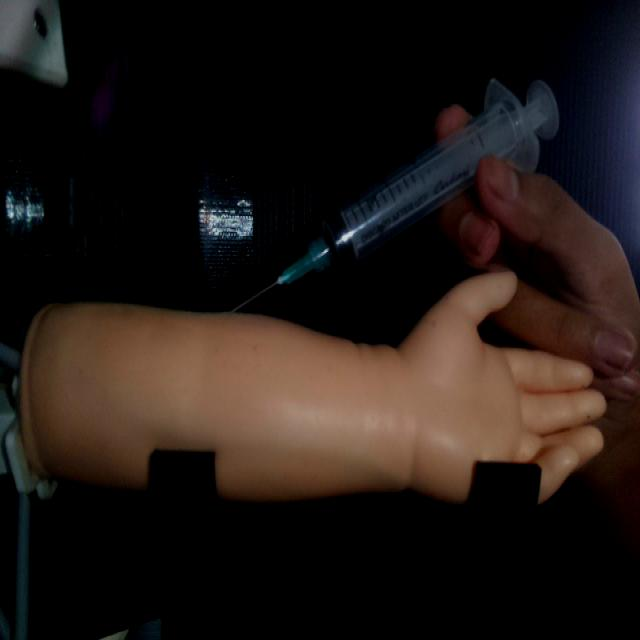Above 30 degrees: (225, 72, 561, 315)
